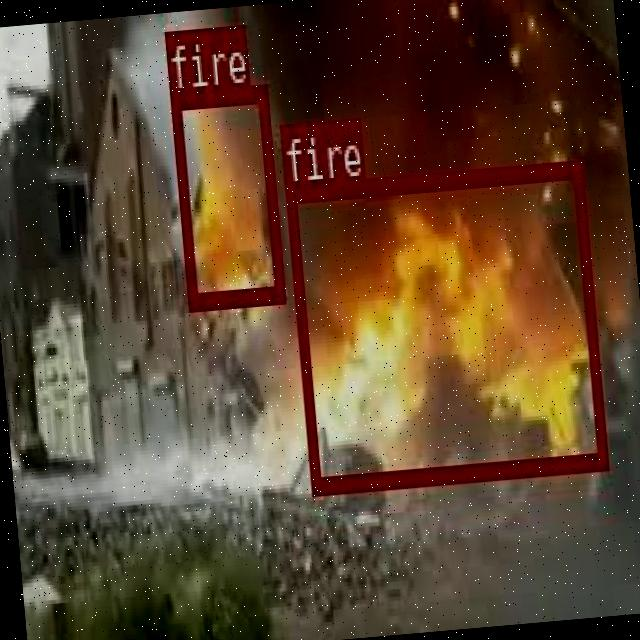fire: (282, 157, 607, 489), (168, 82, 282, 308)
